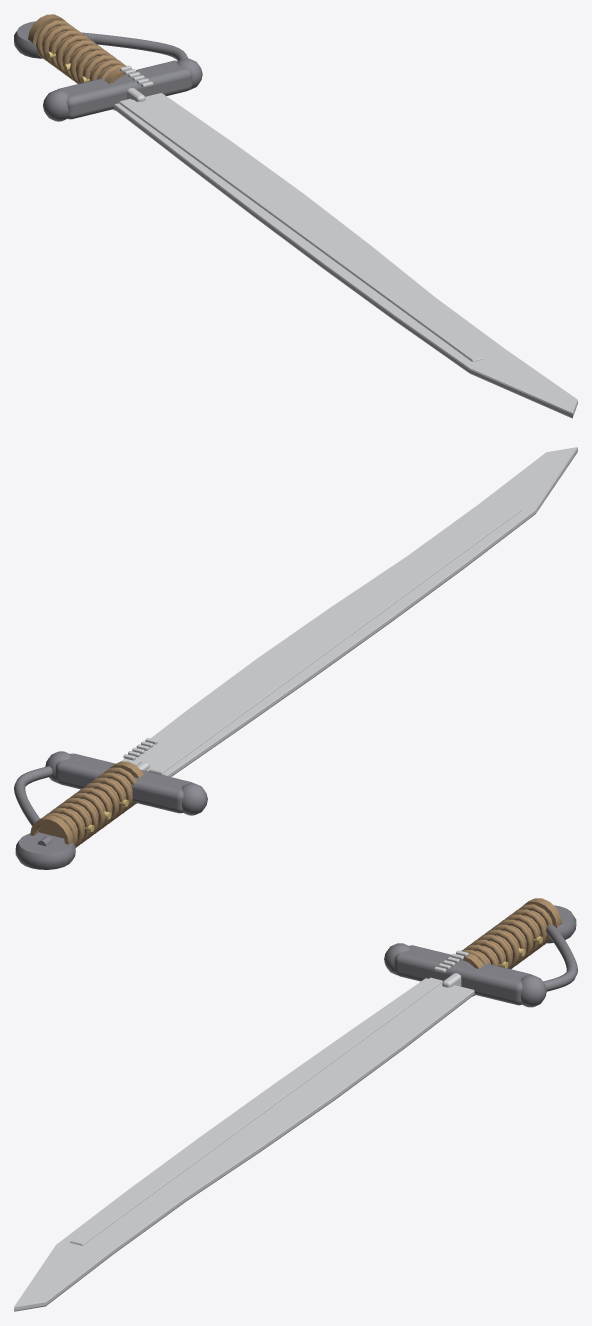
The model's file is cutlass.glb.
3 views of the same model, one above another, from view 1: azimuth 30°, elevation 25°; view 2: azimuth 150°, elevation 25°; view 3: azimuth 330°, elevation 25° (orthographic).
Visible parts, largest first — view 1: cutlass; view 2: cutlass; view 3: cutlass.
Boxes of the visible parts, <box> form: cutlass: <box>14,14,577,418</box>; cutlass: <box>14,447,577,869</box>; cutlass: <box>14,898,577,1311</box>.
Size of the model in its own units: 0.1512 by 0.0407 by 0.8788.
